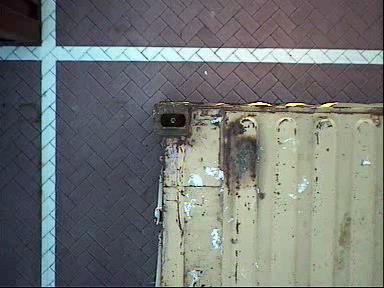groundmarker_2: (23, 160, 106, 266)
